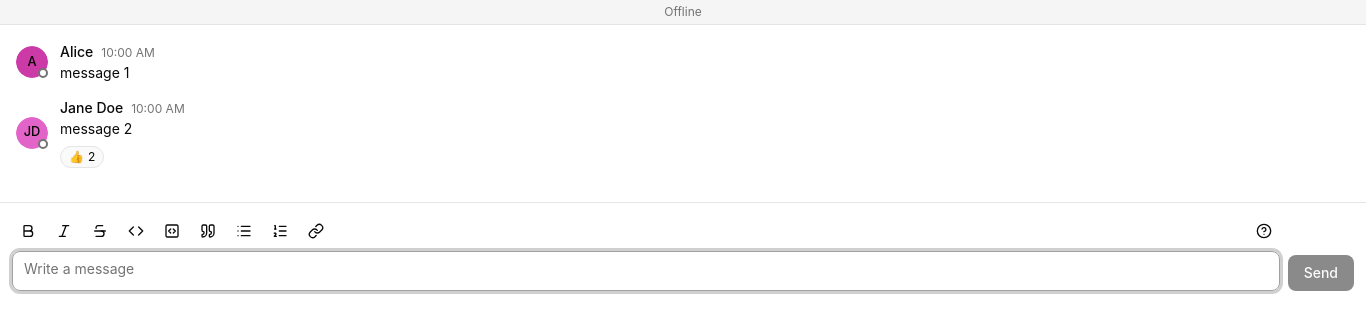
Test: lists the reactors by name on hover, with the ones whose account is gone
Hover over the button "👍 2" at [82, 157], box [60,146,104,168]
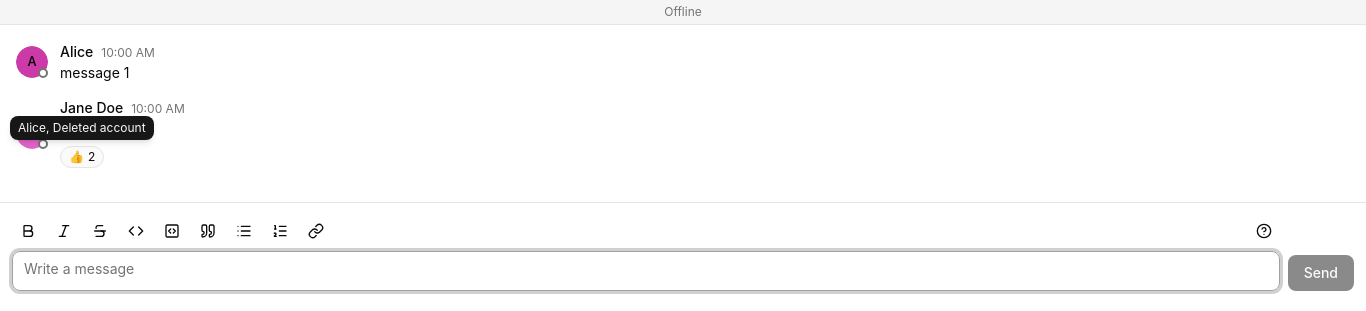
Expected: the tooltip reads "Alice, Deleted account", [18,120,146,135]
